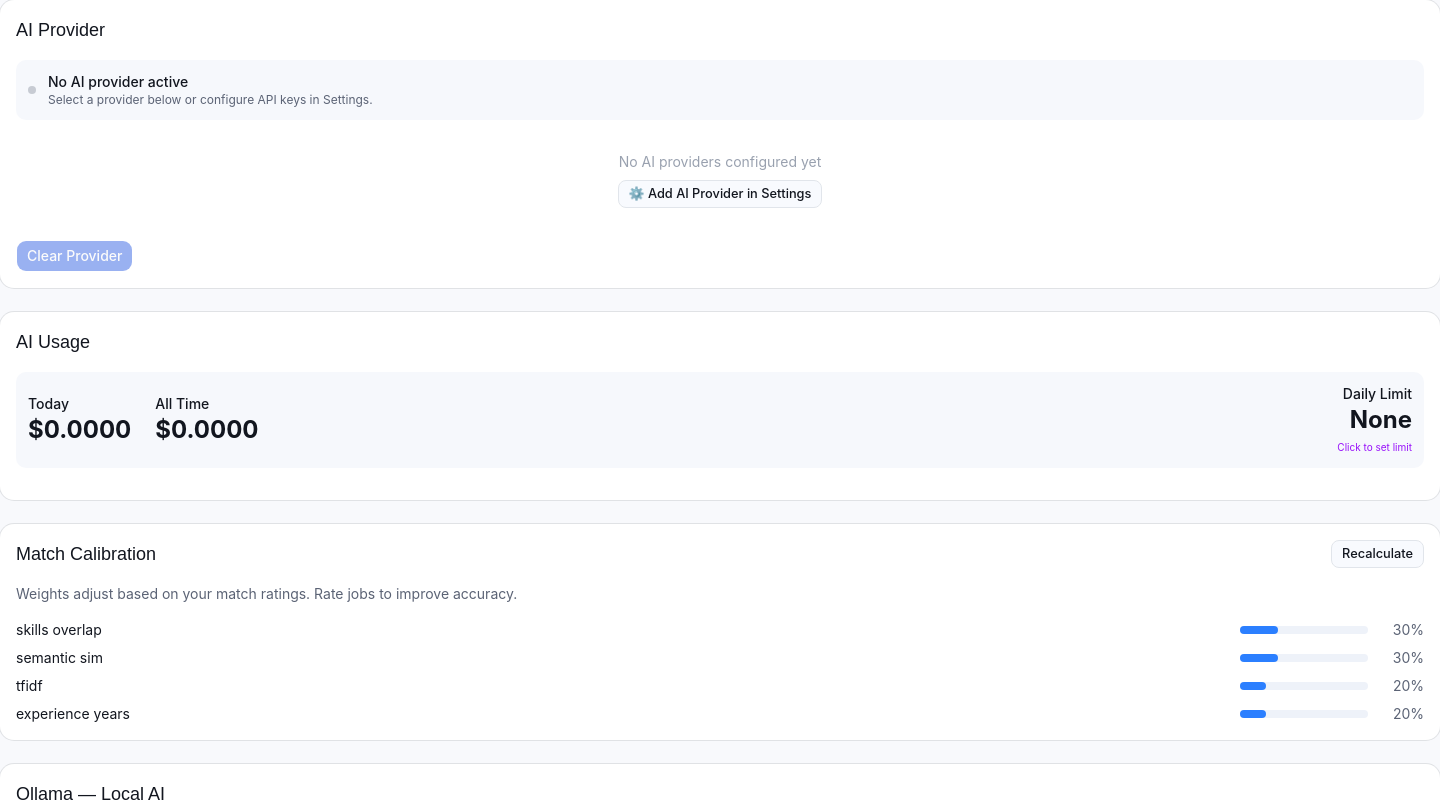
Test: Workflow: Match calibration › shows a friendly message when there are no judgements yet
expect the text "Match Calibration" is shown: met, box left=16, top=540, right=156, bottom=568
Click the button "Recalculate". click: (1378, 554)
box: left=1331, top=540, right=1424, bottom=568
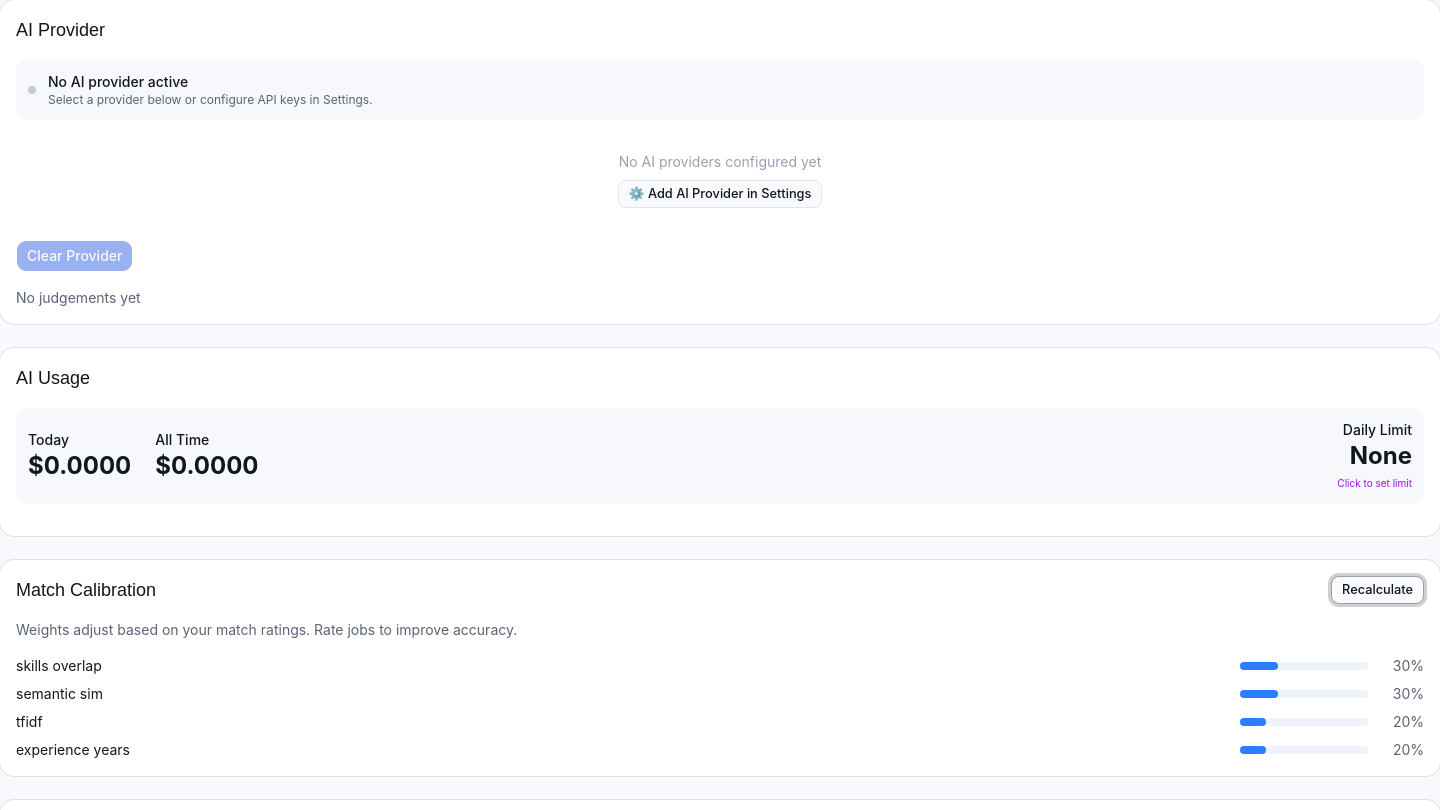
expect the text "No judgements yet" is shown: met, box left=16, top=289, right=141, bottom=306
